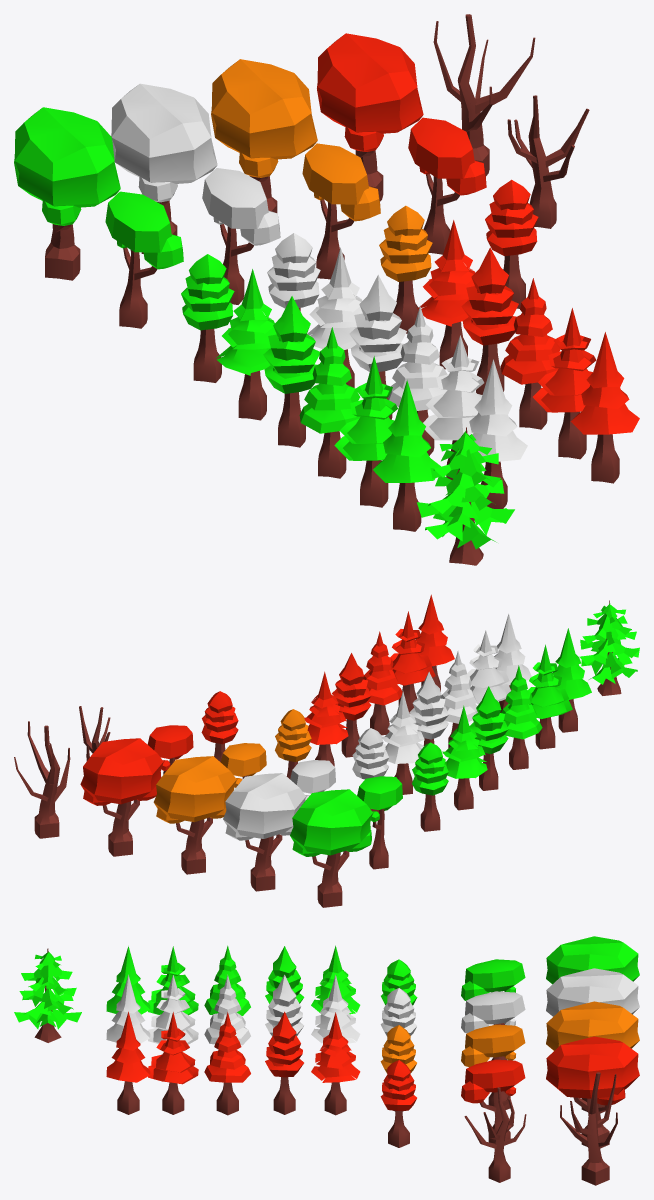
Rendered from toon tree aset 1.fbx.
3 views of the same model, one above another, from view 1: azimuth 30°, elevation 25°; view 2: azimuth 150°, elevation 25°; view 3: azimuth 270°, elevation 25° (orthographic). The views are drawn at different scales.
Visible parts, largest first — view 1: Cylinder.016, Cylinder.029, Cylinder.026, Cylinder.024, Cylinder.003, Cylinder.009, Cylinder.028, Cylinder.025, Cylinder.023, Cylinder.006, Cylinder.017, Cylinder.019 (+18 smaller); view 2: Cylinder.016, Cylinder.029, Cylinder.026, Cylinder.024, Cylinder.003, Cylinder.021, Cylinder.004, Cylinder.031, Cylinder.019, Cylinder.014, Cylinder.006, Cylinder.020 (+18 smaller); view 3: Cylinder.029, Cylinder.026, Cylinder.024, Cylinder.016, Cylinder.003, Cylinder.018, Cylinder.028, Cylinder.007, Cylinder.005, Cylinder.020, Cylinder.031, Cylinder.025 (+19 smaller).
Part boxes in pixels (x1,y1,x2,y2): Cylinder.016: [14, 107, 120, 280]; Cylinder.029: [317, 33, 423, 201]; Cylinder.026: [211, 59, 317, 212]; Cylinder.024: [111, 83, 217, 253]; Cylinder.003: [417, 431, 514, 549]; Cylinder.009: [105, 191, 183, 328]; Cylinder.028: [408, 117, 486, 254]; Cylinder.025: [302, 143, 380, 279]; Cylinder.023: [202, 168, 280, 304]; Cylinder.006: [263, 296, 319, 447]; Cylinder.017: [571, 332, 639, 483]; Cylinder.019: [299, 327, 360, 478]; Cylinder.016: [290, 789, 372, 907]; Cylinder.029: [80, 738, 163, 856]; Cylinder.026: [153, 756, 236, 874]; Cylinder.024: [223, 773, 305, 891]; Cylinder.003: [579, 603, 639, 684]; Cylinder.021: [442, 705, 487, 810]; Cylinder.004: [527, 644, 572, 749]; Cylinder.031: [14, 721, 70, 838]; Cylinder.019: [501, 665, 542, 769]; Cylinder.014: [382, 691, 424, 794]; Cylinder.006: [469, 686, 508, 790]; Cylinder.020: [332, 653, 371, 757]; Cylinder.029: [546, 1036, 639, 1148]; Cylinder.026: [546, 1001, 639, 1113]; Cylinder.024: [546, 968, 639, 1016]; Cylinder.016: [546, 936, 639, 984]; Cylinder.003: [14, 951, 81, 1029]; Cylinder.018: [148, 1012, 198, 1114]; Cylinder.028: [461, 1059, 525, 1143]; Cylinder.007: [311, 1012, 360, 1115]; Cylinder.005: [204, 1012, 250, 1115]; Cylinder.020: [265, 1011, 303, 1114]; Cylinder.031: [560, 1072, 617, 1185]; Cylinder.025: [461, 1024, 525, 1110].
Size of the model in its own units: 3548 by 1064 by 5654.
